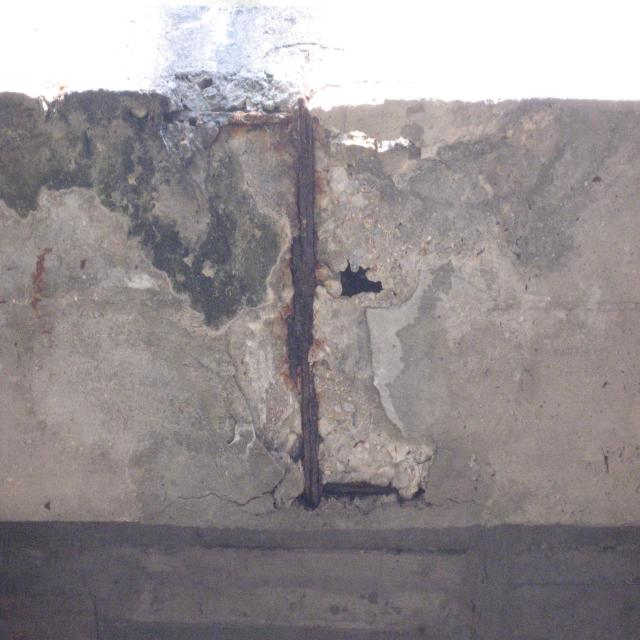corrosion: (224, 91, 404, 520), (29, 242, 87, 332)
